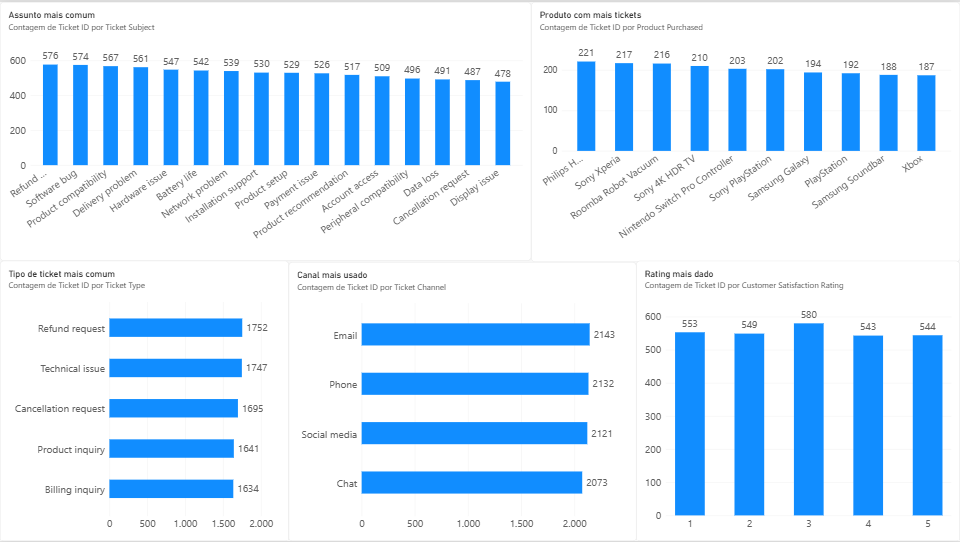

What the dashboard file says about the page in this screenshot:
{"tool":"powerbi","page":{"name":"Página 2","canvas":[1920,1080],"ordinal":1},"visuals":[{"type":"barChart","title":"Tipo de ticket mais comum","fields":{"Y":["CountNonNull(customer_support_tickets.Ticket ID)"],"Category":["customer_support_tickets.Ticket Type"]},"box":[0,0,525,520],"z":0},{"type":"columnChart","title":"Assunto mais comum","fields":{"Category":["customer_support_tickets.Ticket Subject"],"Y":["CountNonNull(customer_support_tickets.Ticket ID)"]},"box":[0,522.5,735,557.5],"z":1000},{"type":"columnChart","title":"Produto com mais tickets","fields":{"Category":["customer_support_tickets.Product Purchased"],"Y":["CountNonNull(customer_support_tickets.Ticket ID)"]},"box":[525,0,857.5,520],"z":2000},{"type":"barChart","title":"Canal mais usado","fields":{"Y":["CountNonNull(customer_support_tickets.Ticket ID)"],"Category":["customer_support_tickets.Ticket Channel"]},"box":[735,522.5,597.5,522.5],"z":3000},{"type":"columnChart","title":"Rating mais dado","fields":{"Y":["CountNonNull(customer_support_tickets.Ticket ID)"],"Category":["customer_support_tickets.Customer Satisfaction Rating"]},"box":[1382.5,0,537.5,562.5],"z":4000},{"type":"barChart","title":"tipo de ticket que demora mais a resolver","fields":{"Category":["customer_support_tickets.Ticket Type"],"Y":["customer_support_tickets.Tempo Médio Resolução (dias)"]},"box":[1332.5,610,517.5,452.5],"z":5000}]}

Visuals, with their boxes in screenshot pixels (x1, y1, x2, y2), scaled from the page's 1920x1080 canvas onto the 960x542 screenshot:
"Tipo de ticket mais comum" barChart: bbox(0, 0, 262, 261)
"Assunto mais comum" columnChart: bbox(0, 262, 368, 541)
"Produto com mais tickets" columnChart: bbox(262, 0, 691, 261)
"Canal mais usado" barChart: bbox(368, 262, 666, 524)
"Rating mais dado" columnChart: bbox(691, 0, 959, 282)
"tipo de ticket que demora mais a resolver" barChart: bbox(666, 306, 925, 533)
